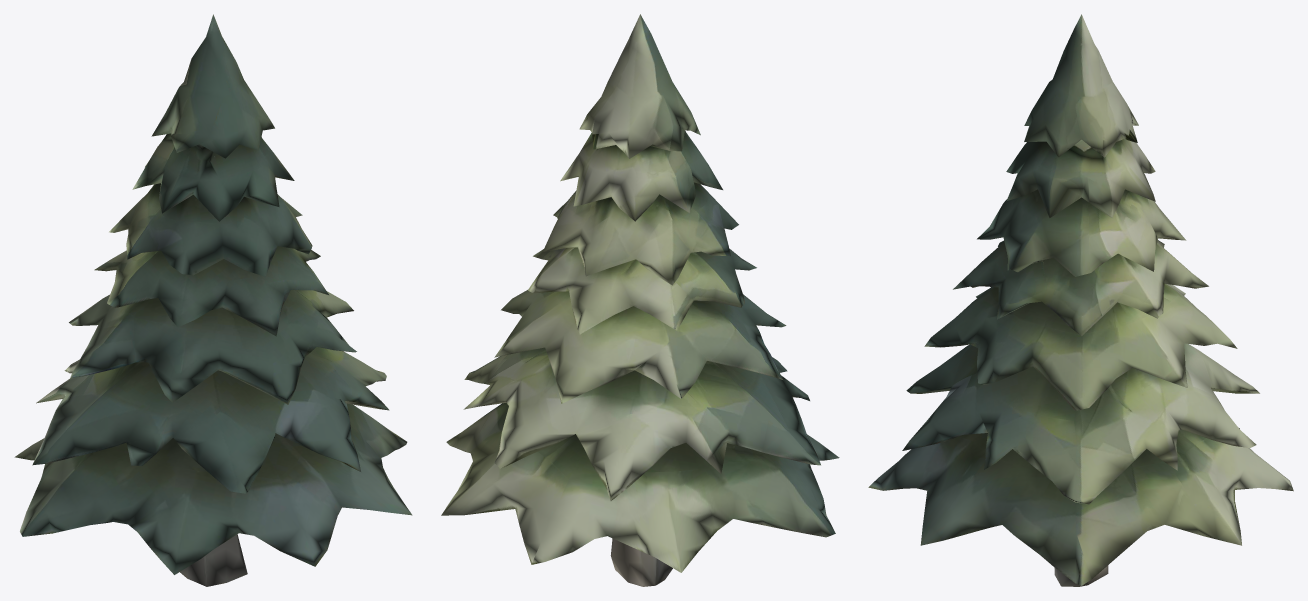
Rendered from spruce.glb.
3 renders of one model, left to right at view 1: azimuth 30°, elevation 25°; view 2: azimuth 150°, elevation 25°; view 3: azimuth 270°, elevation 25°, orthographic.
Visible parts, largest first — view 1: tripo_node_782444f3-3bb6-4bf9-bd3a-0fbaf9d78fb7; view 2: tripo_node_782444f3-3bb6-4bf9-bd3a-0fbaf9d78fb7; view 3: tripo_node_782444f3-3bb6-4bf9-bd3a-0fbaf9d78fb7.
Part boxes in pixels (x1,y1,x2,y2): tripo_node_782444f3-3bb6-4bf9-bd3a-0fbaf9d78fb7: (14,14,412,586); tripo_node_782444f3-3bb6-4bf9-bd3a-0fbaf9d78fb7: (441,14,839,586); tripo_node_782444f3-3bb6-4bf9-bd3a-0fbaf9d78fb7: (868,14,1293,586).
Size of the model in its own units: 0.7241 by 0.9994 by 0.6871.
1 material, 1 textured.
